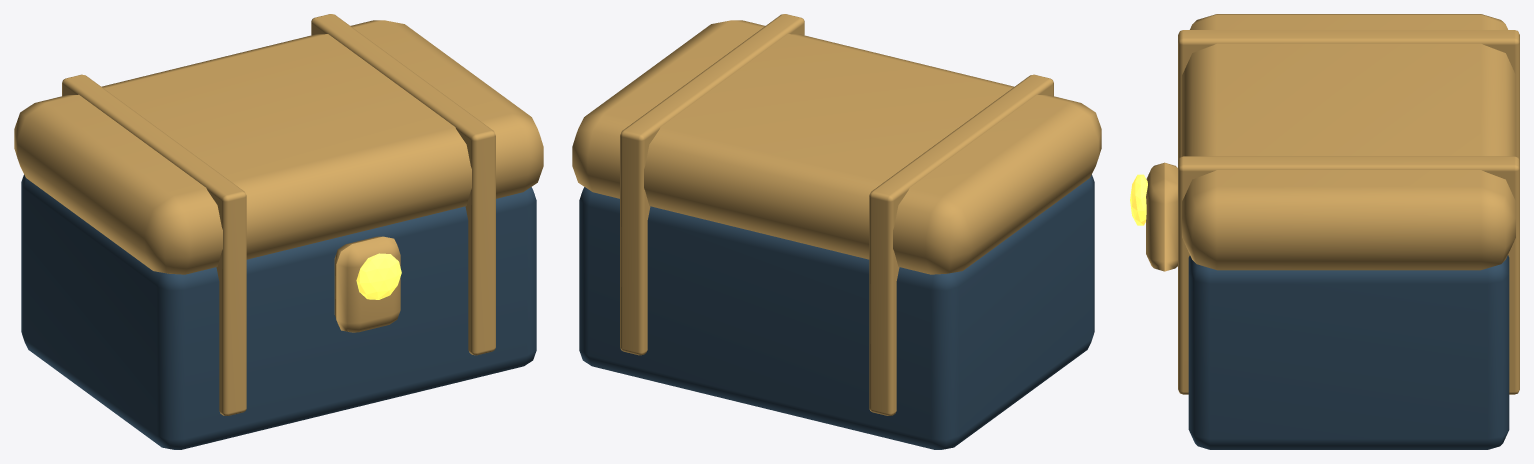
Rendered from chest.glb.
The picture shows the model from 3 angles, left to right: view 1: azimuth 30°, elevation 25°; view 2: azimuth 150°, elevation 25°; view 3: azimuth 270°, elevation 25°; orthographic projection. The views are drawn at different scales.
Visible parts, largest first — view 1: chest / Brass | machined champagne, chest / Paint | Prussian blue, chest / Lamp | amber; view 2: chest / Brass | machined champagne, chest / Paint | Prussian blue; view 3: chest / Brass | machined champagne, chest / Paint | Prussian blue, chest / Lamp | amber.
Part boxes in pixels (x1,y1,x2,y2): chest / Brass | machined champagne: [14, 14, 543, 415]; chest / Paint | Prussian blue: [21, 174, 536, 449]; chest / Lamp | amber: [356, 253, 401, 299]; chest / Brass | machined champagne: [572, 14, 1101, 415]; chest / Paint | Prussian blue: [579, 174, 1094, 449]; chest / Brass | machined champagne: [1146, 14, 1519, 394]; chest / Paint | Prussian blue: [1188, 255, 1509, 449]; chest / Lamp | amber: [1130, 174, 1147, 225].
Bounding box in the file's own units: 1.78 × 1.09 × 1.46.
